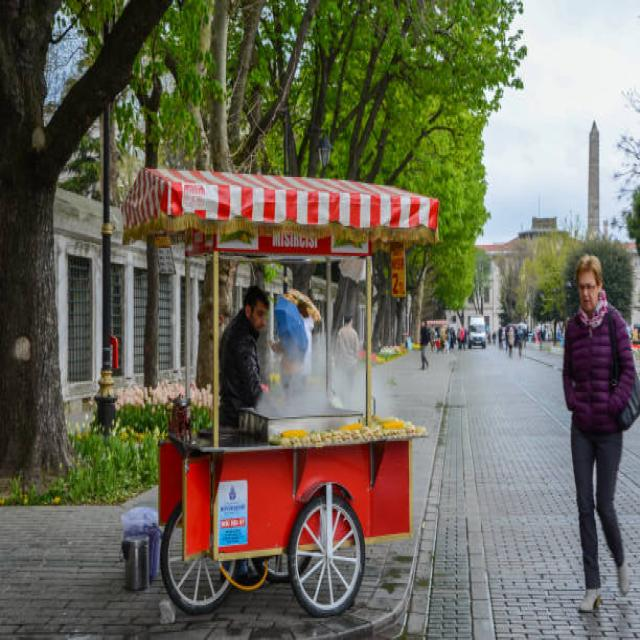Emperan: (92, 140, 450, 624)
